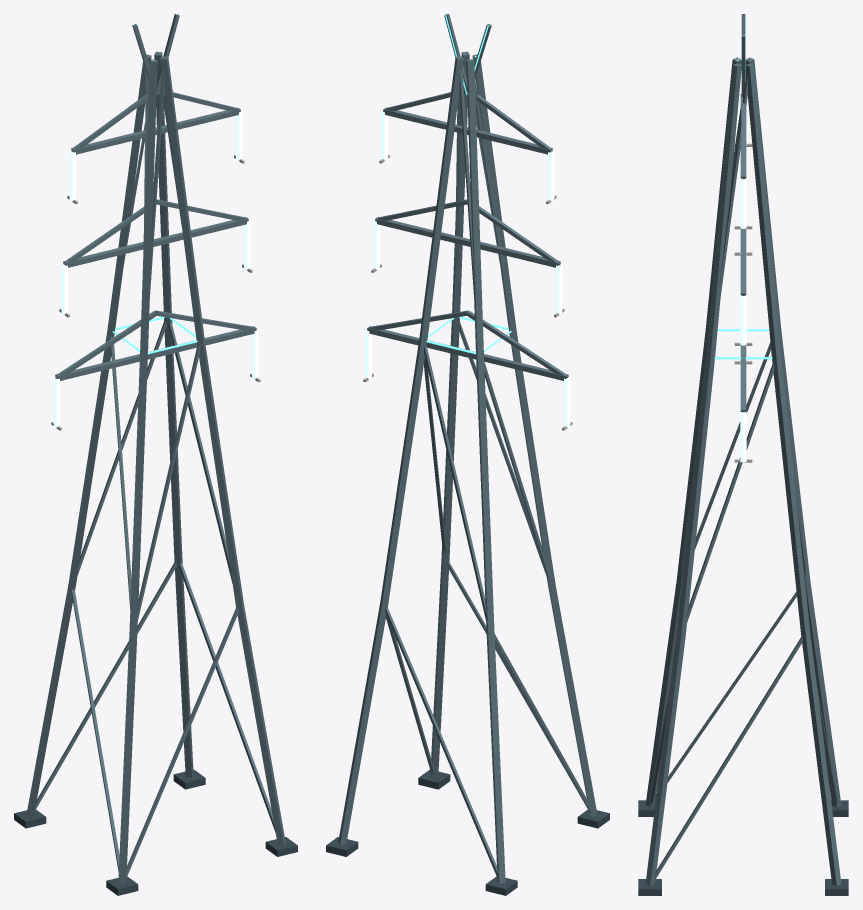
Rendered from transmission_line_segment.lod2.glb.
The picture shows the model from 3 angles, left to right: view 1: azimuth 30°, elevation 25°; view 2: azimuth 150°, elevation 25°; view 3: azimuth 270°, elevation 25°; orthographic projection.
Visible parts, largest first — view 1: transmission_line_segment_graphite_light.002, transmission_line_segment_white.002, transmission_line_segment_graphite.002; view 2: transmission_line_segment_graphite_light.002, transmission_line_segment_white.002, transmission_line_segment_graphite.002, transmission_line_segment_edge.002; view 3: transmission_line_segment_graphite_light.002, transmission_line_segment_white.002, transmission_line_segment_graphite.002.
Part boxes in pixels (x1,y1,x2,y2): transmission_line_segment_graphite_light.002: [26, 14, 285, 883]; transmission_line_segment_white.002: [53, 110, 258, 427]; transmission_line_segment_graphite.002: [14, 769, 297, 895]; transmission_line_segment_graphite_light.002: [338, 14, 597, 883]; transmission_line_segment_white.002: [365, 110, 570, 427]; transmission_line_segment_graphite.002: [326, 769, 609, 895]; transmission_line_segment_edge.002: [426, 15, 511, 354]; transmission_line_segment_graphite_light.002: [645, 14, 841, 885]; transmission_line_segment_white.002: [740, 96, 746, 462]; transmission_line_segment_graphite.002: [638, 800, 848, 895].
Size of the model in its own units: 11.56 by 44.03 by 10.15.
